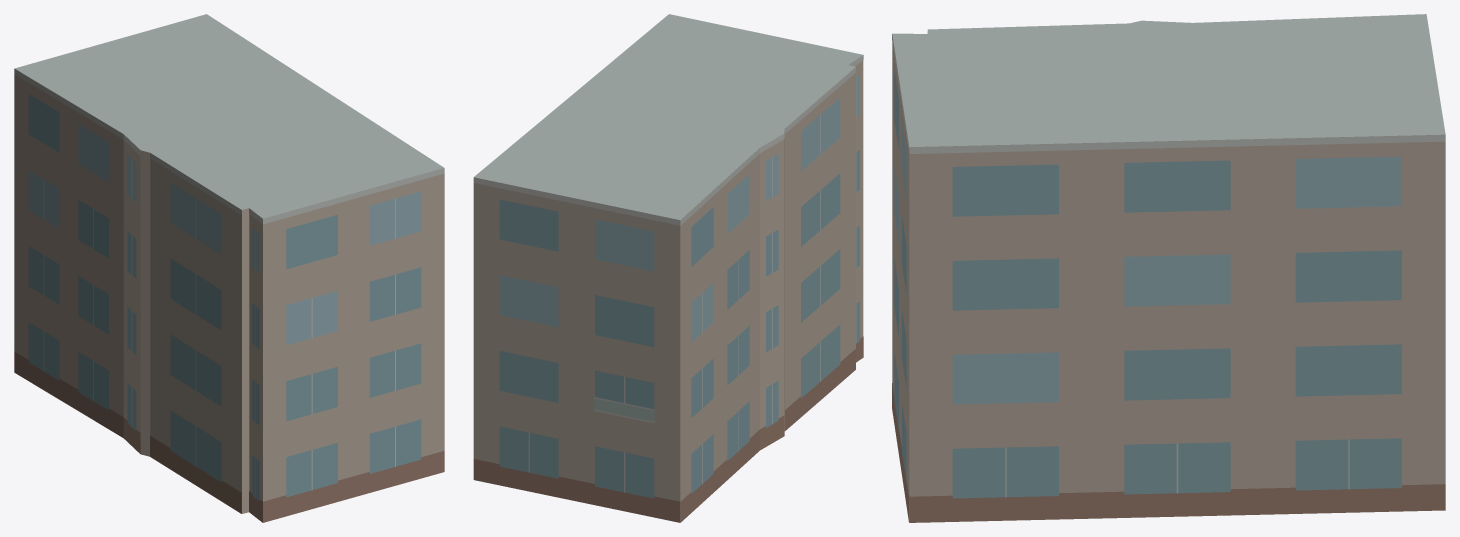
The model's file is survey-upis-32641901.glb.
3 views of the same model, side by side, from view 1: azimuth 30°, elevation 25°; view 2: azimuth 150°, elevation 25°; view 3: azimuth 270°, elevation 25° (orthographic). The views are drawn at different scales.
Parts seen in each view (by area): view 1: survey-upis-32641901.tmp; view 2: survey-upis-32641901.tmp; view 3: survey-upis-32641901.tmp.
Boxes of the visible parts, x1,y1,x2,y2 form: survey-upis-32641901.tmp: (14, 14, 444, 522); survey-upis-32641901.tmp: (473, 14, 863, 522); survey-upis-32641901.tmp: (892, 14, 1445, 522).
Bounding box in the file's own units: 10.04 × 13.2 × 17.63.
